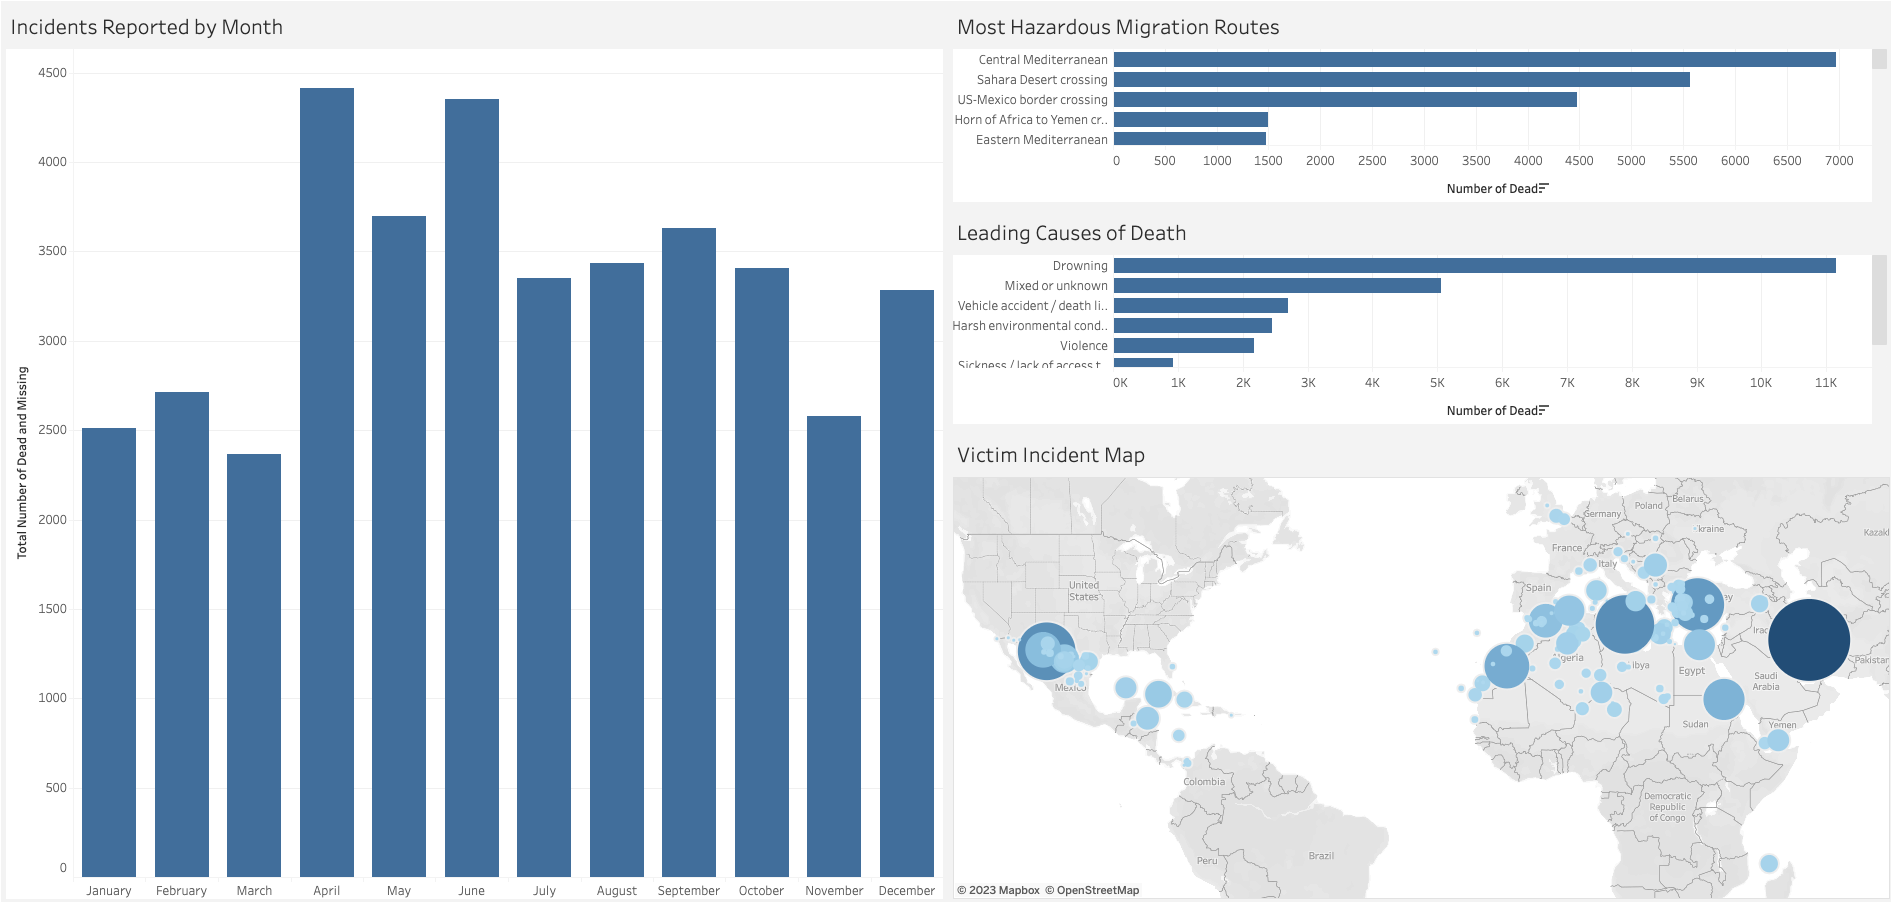

The page's visual inventory and layout, read from the dashboard file:
{"tool":"tableau","page":{"name":"Dashboard 1","canvas":[1000,1000],"units":"permille","ordinal":0},"visuals":[{"type":"worksheet","title":"Deaths by Month","mark":"Automatic","rows":["Total_Number_of_Dead_and_Missing"],"cols":["Reported_Month"],"box":[4.8,9.3,444.5,981.4]},{"type":"worksheet","title":"Deadliest Route","mark":"Automatic","rows":["Migration_Route"],"cols":["Total_Number_of_Dead_and_Missing"],"box":[449.3,9.3,545.8,313.9]},{"type":"worksheet","title":"Deadliest Risk","mark":"Automatic","rows":["Cause_of_Death"],"cols":["Number_of_Dead"],"box":[449.3,323.2,545.8,326.7]},{"type":"worksheet","title":"Number of Dead","mark":"Automatic","rows":["lat"],"cols":["long"],"box":[449.3,650,545.8,340.7]}]}

Visuals, with their boxes on the dashboard's canvas, which has no fixed pixel size, in thousandths of its width and height (x1, y1, x2, y2). These are canvas units, not pixel positions in the 1891x902 screenshot, which may show the page scaled, cropped or inside an application window:
"Deaths by Month" worksheet: 5,9,449,991
"Deadliest Route" worksheet: 449,9,995,323
"Deadliest Risk" worksheet: 449,323,995,650
"Number of Dead" worksheet: 449,650,995,991
